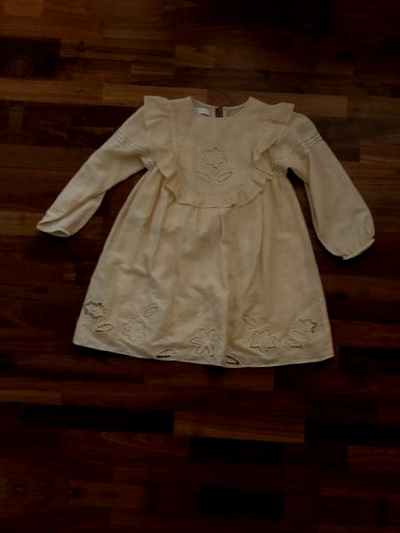Dress: (33, 70, 400, 406), (400, 95, 400, 431)
